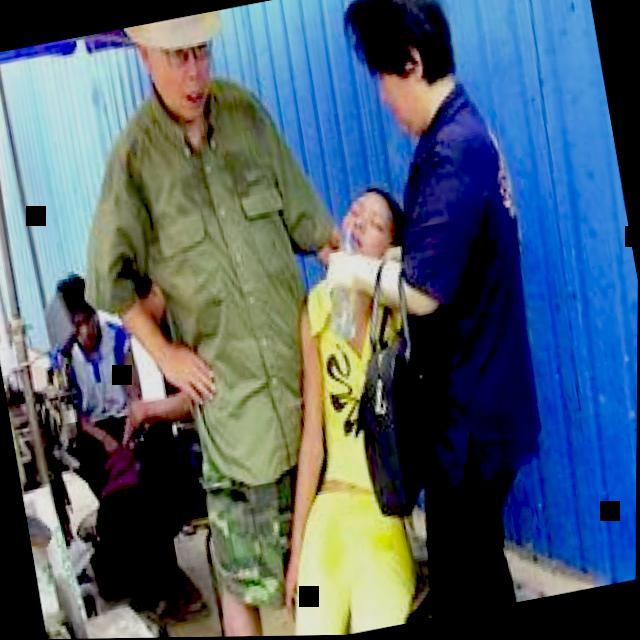Fall-Detected: (211, 170, 450, 634)
